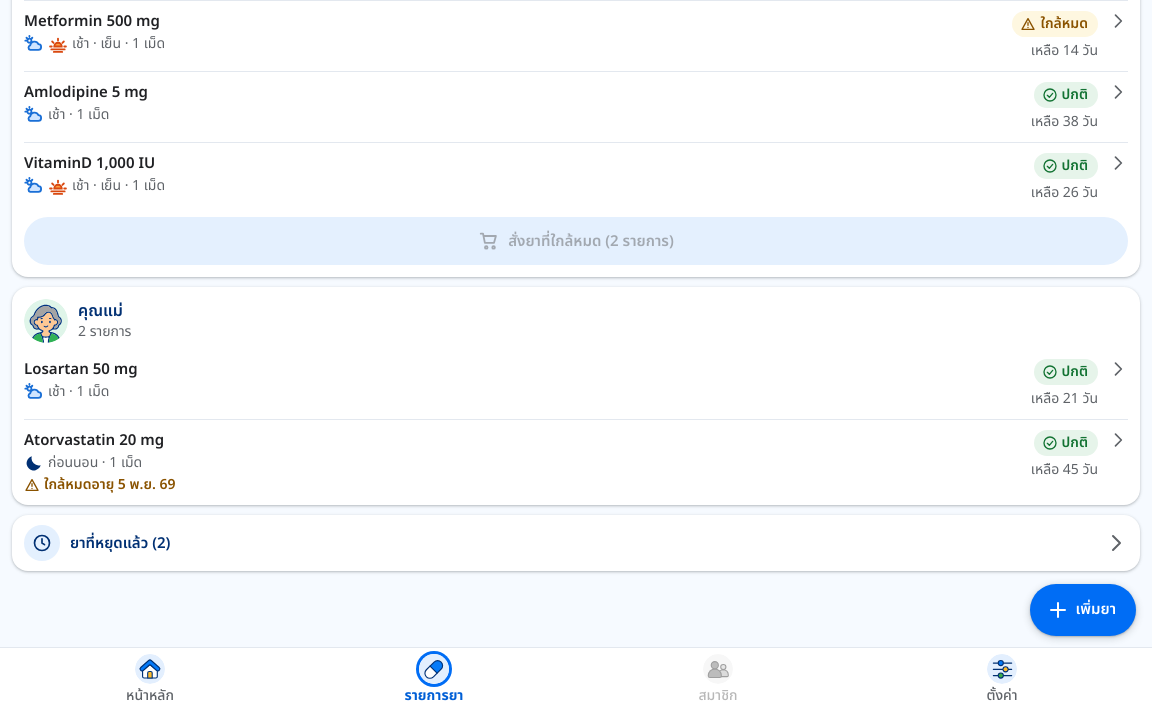
Test case: own medicines tab › stopped medicines are folded; opening shows who and when
The image size is (1152, 720).
(page scrolled)
Expected: the text "คุณพ่อ · หยุดเมื่อ 3 ก.ย. 69" is not shown
What coordinates should you click on to do the following:
click the button "ยาที่หยุดแล้ว (2)"
I would click on:
 (42, 543)
Its box is [12, 515, 1140, 571].
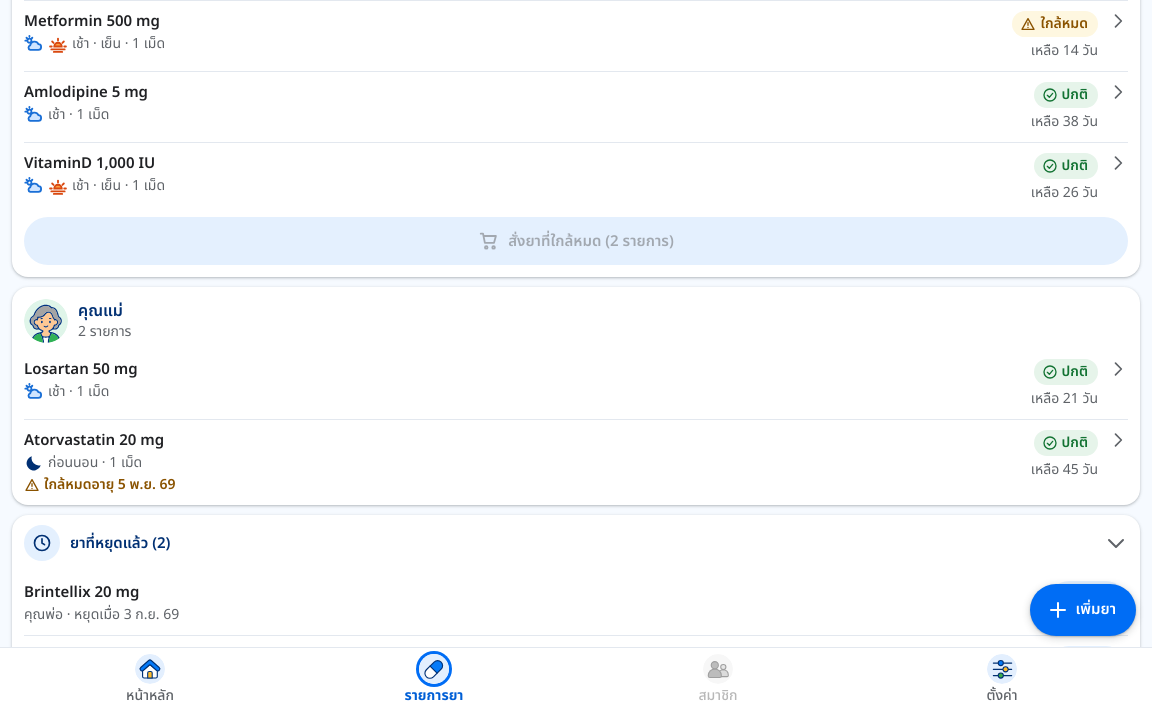
Now the text "คุณพ่อ · หยุดเมื่อ 3 ก.ย. 69" is shown, box [24, 604, 179, 624]
